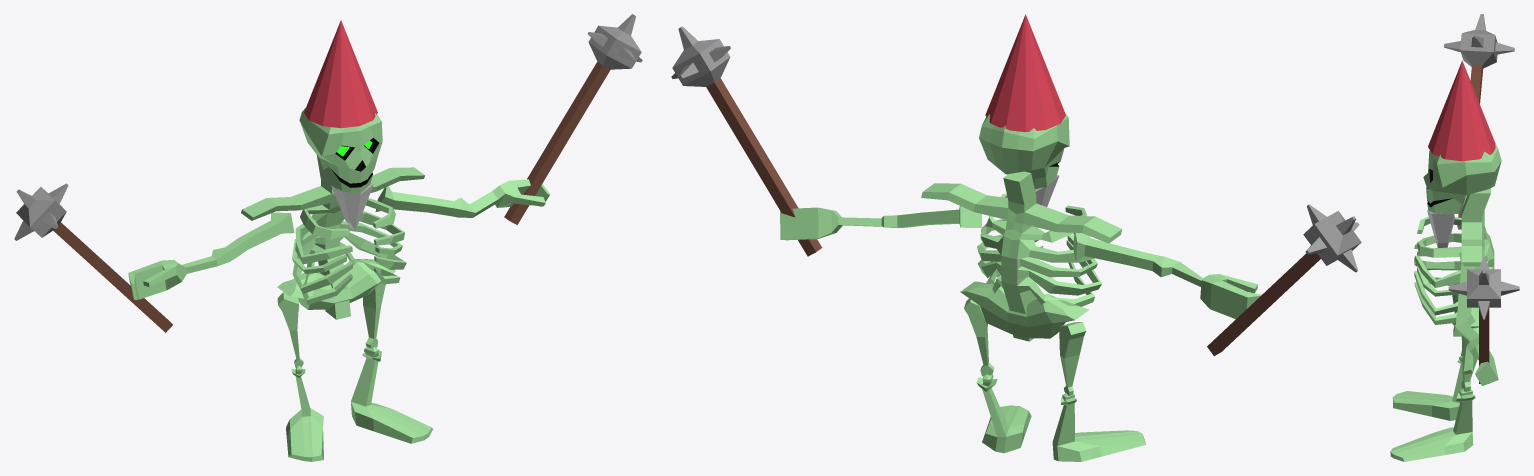
File: gnome skeleton.fbx
3 renders of one model, left to right at view 1: azimuth 30°, elevation 25°; view 2: azimuth 150°, elevation 25°; view 3: azimuth 270°, elevation 25°, orthographic. The views are drawn at different scales.
Visible parts, largest first — view 1: Cube; view 2: Cube; view 3: Cube.
Part boxes in pixels (left/top/right/bottom): Cube: left=14, top=14, right=642, bottom=461; Cube: left=671, top=14, right=1361, bottom=461; Cube: left=1390, top=14, right=1519, bottom=461.
Size of the model in its own units: 426 by 262 by 81.41.
